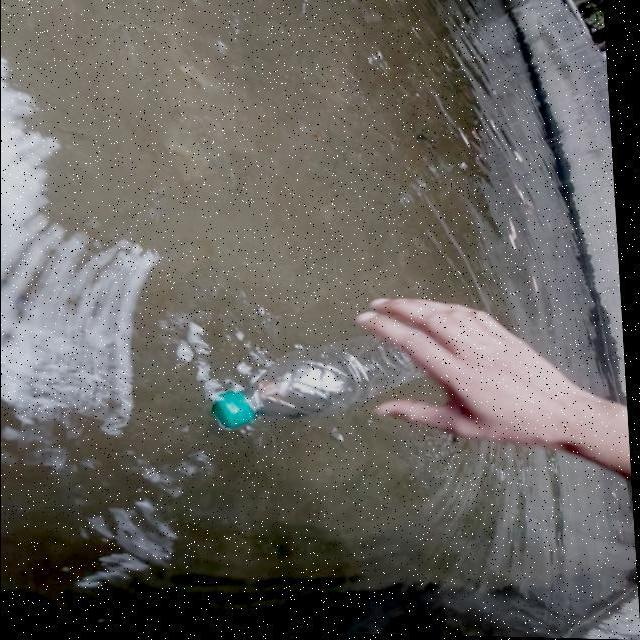Bottle: (200, 316, 436, 434)
Hand: (350, 284, 634, 506)
